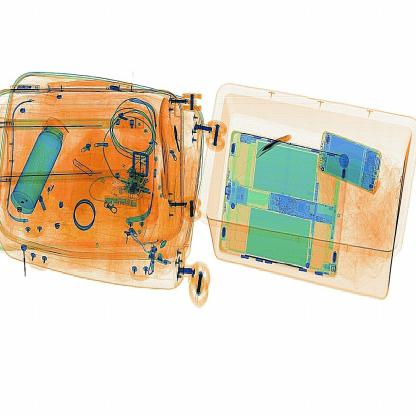wrench: (244, 128, 292, 162)
